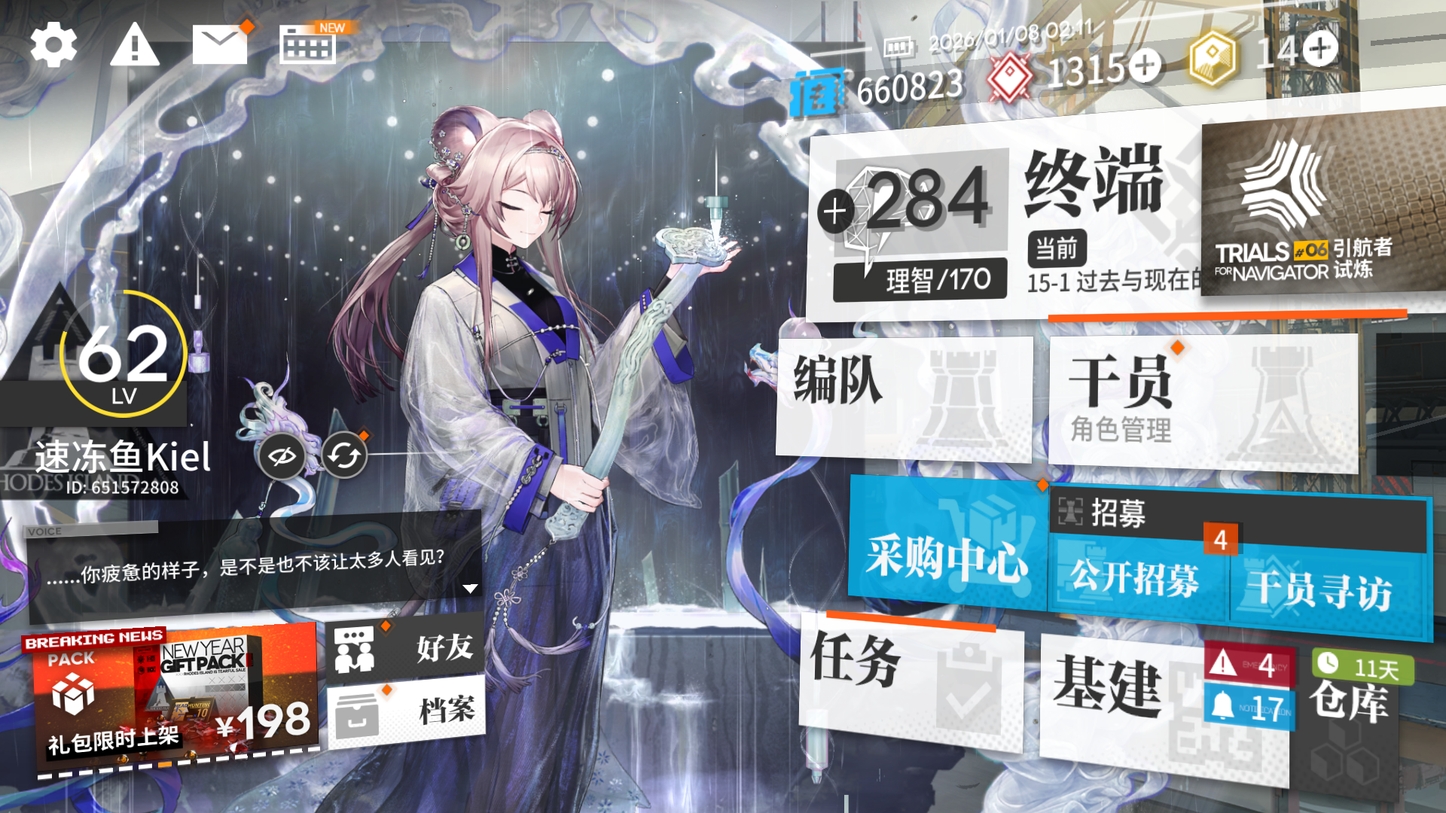home_button: (1002, 135, 1188, 249)
infrastructure_button: (1039, 639, 1222, 742)
